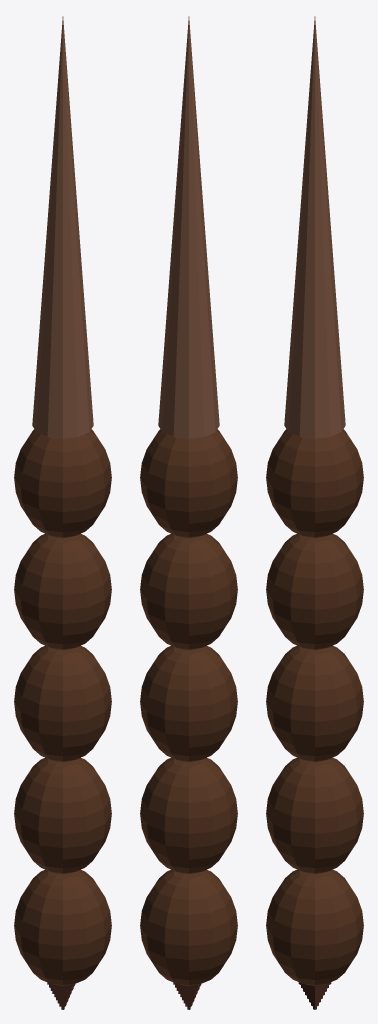
The model's file is Wand 224.glb.
The picture shows the model from 3 angles, left to right: view 1: azimuth 30°, elevation 25°; view 2: azimuth 210°, elevation 25°; view 3: azimuth 270°, elevation 25°; orthographic projection.
Parts seen in each view (by area): view 1: GeneratedWand; view 2: GeneratedWand; view 3: GeneratedWand.
Boxes of the visible parts, x1=… form: GeneratedWand: x1=14, y1=16, x2=111, y2=1009; GeneratedWand: x1=140, y1=16, x2=237, y2=1009; GeneratedWand: x1=266, y1=16, x2=363, y2=1009.
Bounding box in the file's own units: 0.0447 × 0.504 × 0.0449.
